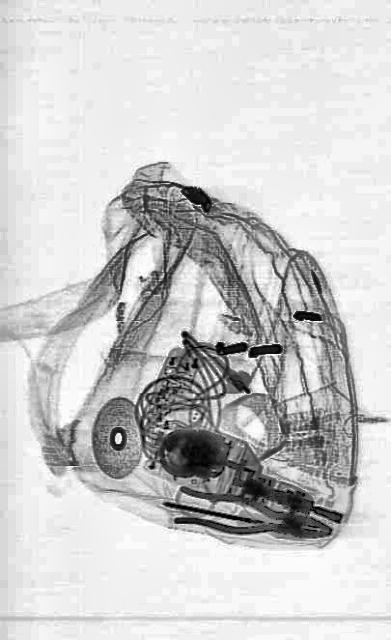Pliers: (173, 483, 333, 551)
